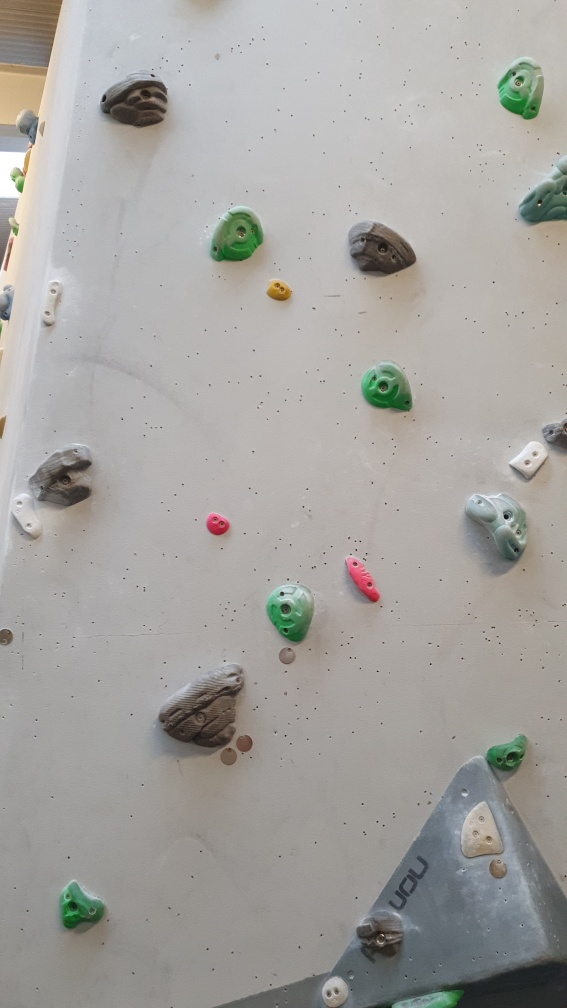Crimp: (507, 431, 553, 488), (339, 551, 382, 609), (9, 493, 42, 544), (36, 276, 64, 330)
Hand Start: (482, 850, 509, 885), (234, 729, 260, 757), (219, 744, 241, 769), (1, 624, 20, 648)
Jug: (158, 656, 245, 751), (97, 67, 177, 131), (463, 489, 531, 562), (26, 444, 99, 506), (349, 219, 421, 274), (205, 204, 269, 263), (359, 356, 421, 414), (497, 57, 547, 125), (265, 581, 315, 643), (482, 728, 530, 774)
Pinch: (202, 511, 234, 545), (264, 276, 295, 302)
